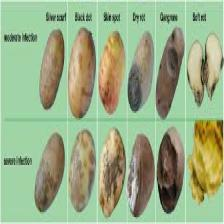Damaged potato: (155, 120, 184, 218)
Diseased-fungal potato: (30, 129, 67, 211), (127, 128, 156, 219), (155, 30, 184, 117), (68, 130, 97, 214), (68, 28, 95, 117), (98, 26, 124, 116), (98, 128, 124, 216), (127, 27, 153, 114), (38, 31, 64, 106)
